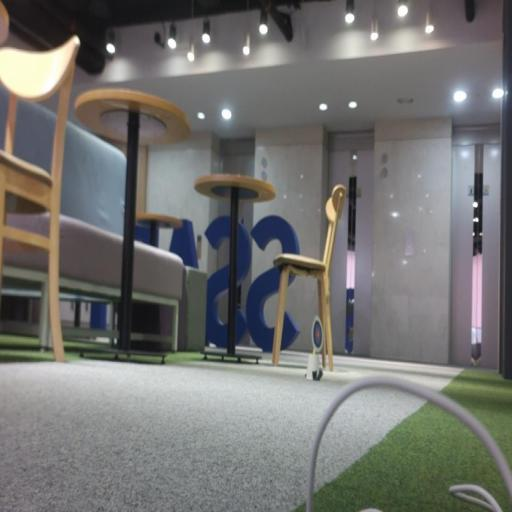target: (312, 316, 323, 353)
